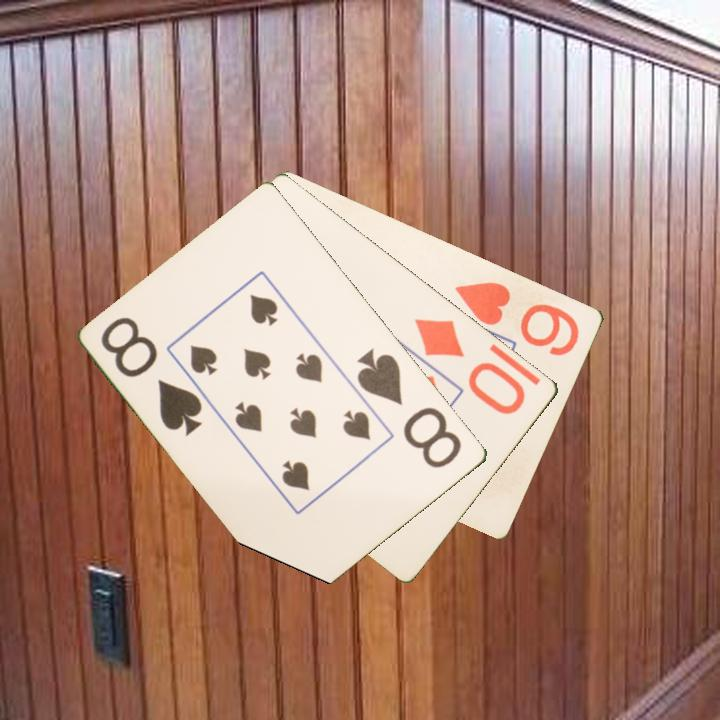10d: (411, 314, 529, 418)
6h: (451, 278, 583, 359)
8s: (354, 345, 466, 472), (97, 313, 206, 439)
